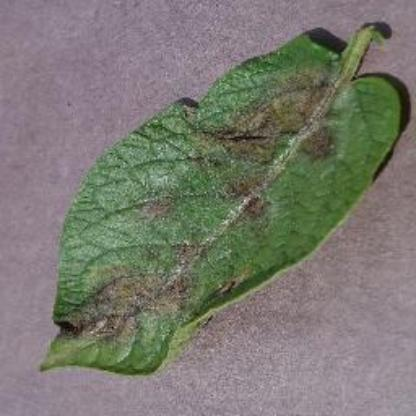Late-Blight: (23, 20, 415, 384)
